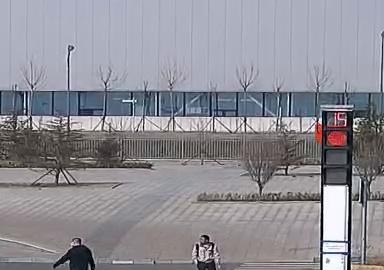red: (323, 129, 347, 148)
redtime: (328, 112, 348, 127)
